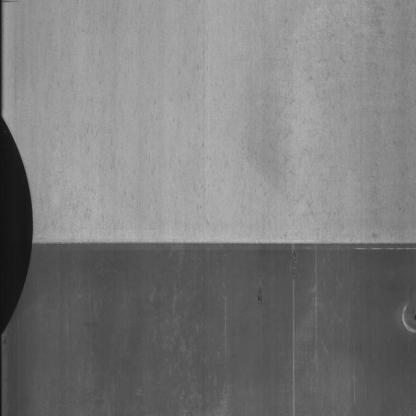welding_line: (25, 226, 416, 262)
